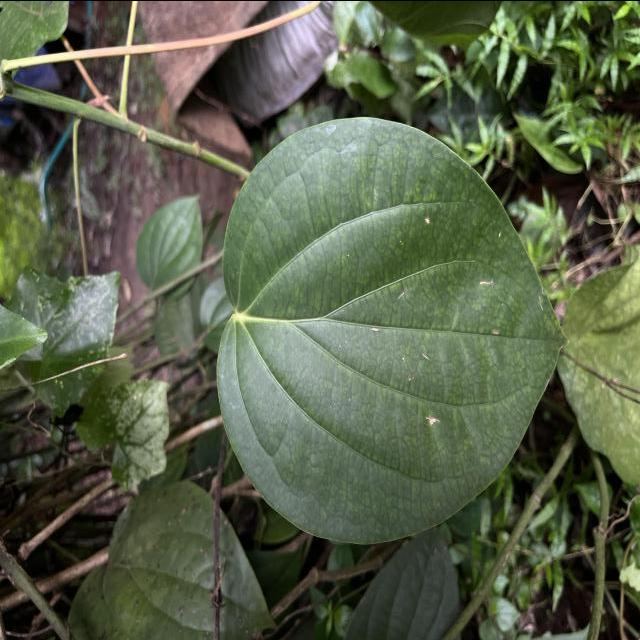Piper nigrum: (214, 113, 572, 547)
